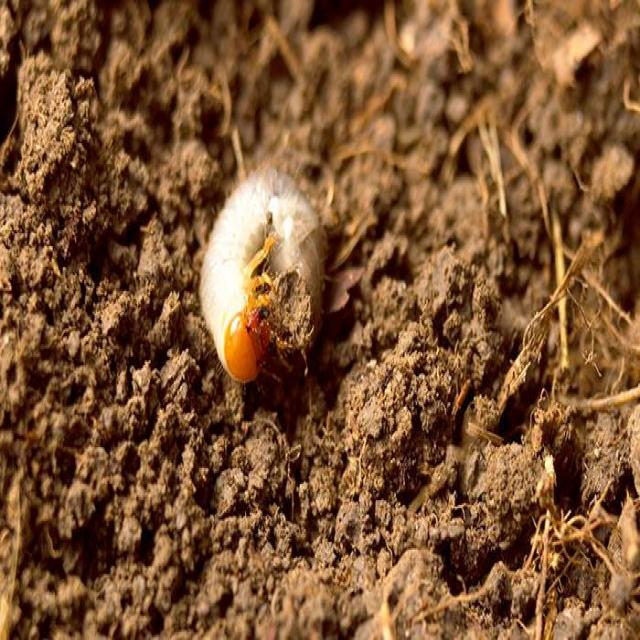Grub-Adult-: (184, 144, 338, 395)
